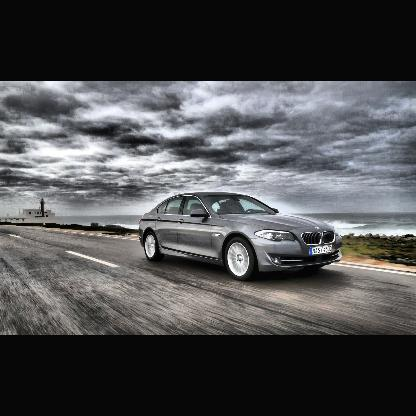BMW ActiveHybrid 5 Sedan 2012: (138, 191, 344, 282)
